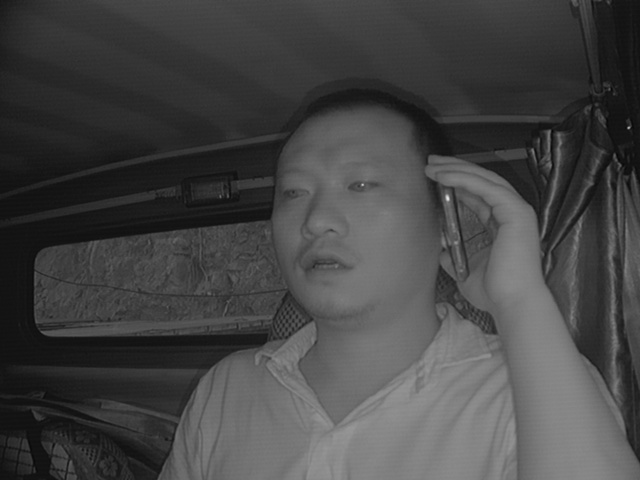hand: (425, 145, 546, 324)
